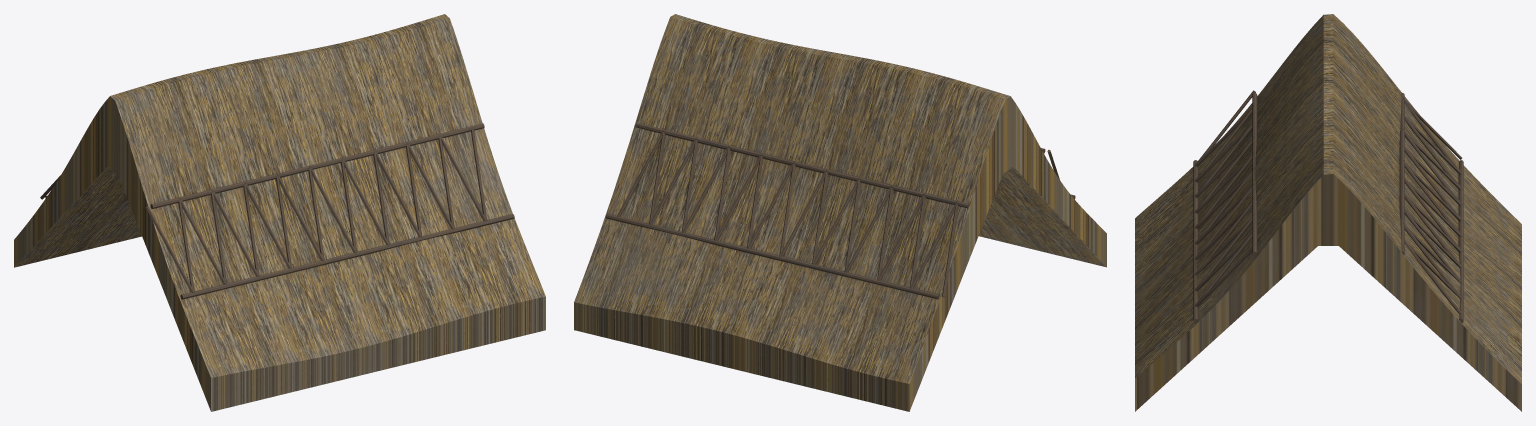
File: roof_ridge_2m.glb
3 views of the same model, side by side, from view 1: azimuth 30°, elevation 25°; view 2: azimuth 150°, elevation 25°; view 3: azimuth 270°, elevation 25° (orthographic). The views are drawn at different scales.
Parts seen in each view (by area): view 1: roof_ridge_2m; view 2: roof_ridge_2m; view 3: roof_ridge_2m.
Part boxes in pixels (x1,y1,x2,y2): roof_ridge_2m: [14, 14, 545, 411]; roof_ridge_2m: [574, 14, 1106, 411]; roof_ridge_2m: [1135, 14, 1521, 411].
Size of the model in its own units: 2.09 by 1.44 by 2.1.
1 material, 1 textured.
